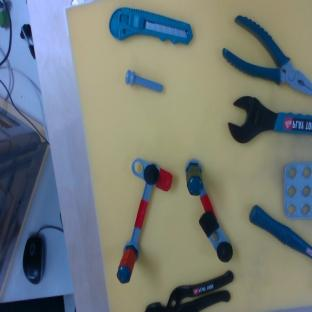non_pass: (177, 158, 236, 266)
pass: (107, 158, 175, 290)
